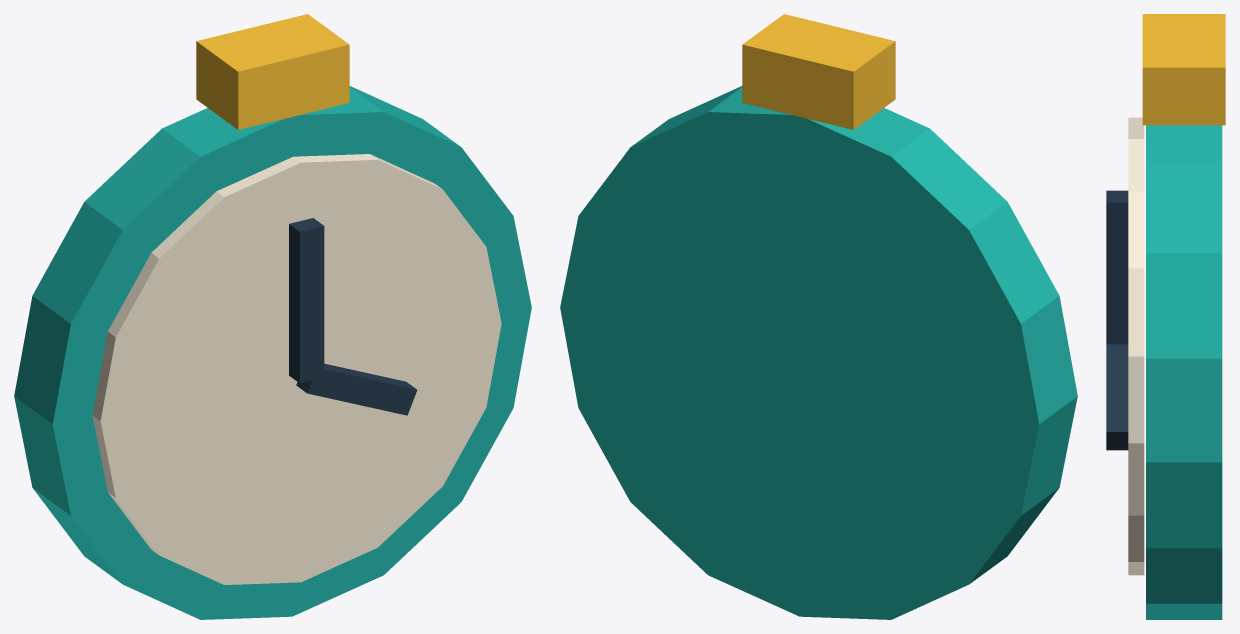
Rendered from 29_slow_clock.obj.
3 views of the same model, side by side, from view 1: azimuth 30°, elevation 25°; view 2: azimuth 150°, elevation 25°; view 3: azimuth 270°, elevation 25° (orthographic).
Parts seen in each view (by area): view 1: part_1, part_0, part_4, part_2, part_3; view 2: part_0, part_4; view 3: part_0, part_4, part_1, part_2, part_3.
Boxes of the visible parts, x1,y1,x2,y2 form: part_1: [92, 154, 501, 584]; part_0: [14, 86, 531, 619]; part_4: [196, 14, 349, 129]; part_2: [289, 218, 324, 383]; part_3: [296, 363, 417, 415]; part_0: [560, 86, 1077, 619]; part_4: [742, 14, 895, 129]; part_0: [1146, 125, 1222, 619]; part_4: [1142, 14, 1225, 125]; part_1: [1128, 117, 1144, 575]; part_2: [1106, 190, 1128, 344]; part_3: [1106, 344, 1128, 450].
Bounding box in the file's own units: 0.86 × 0.96 × 0.187.
